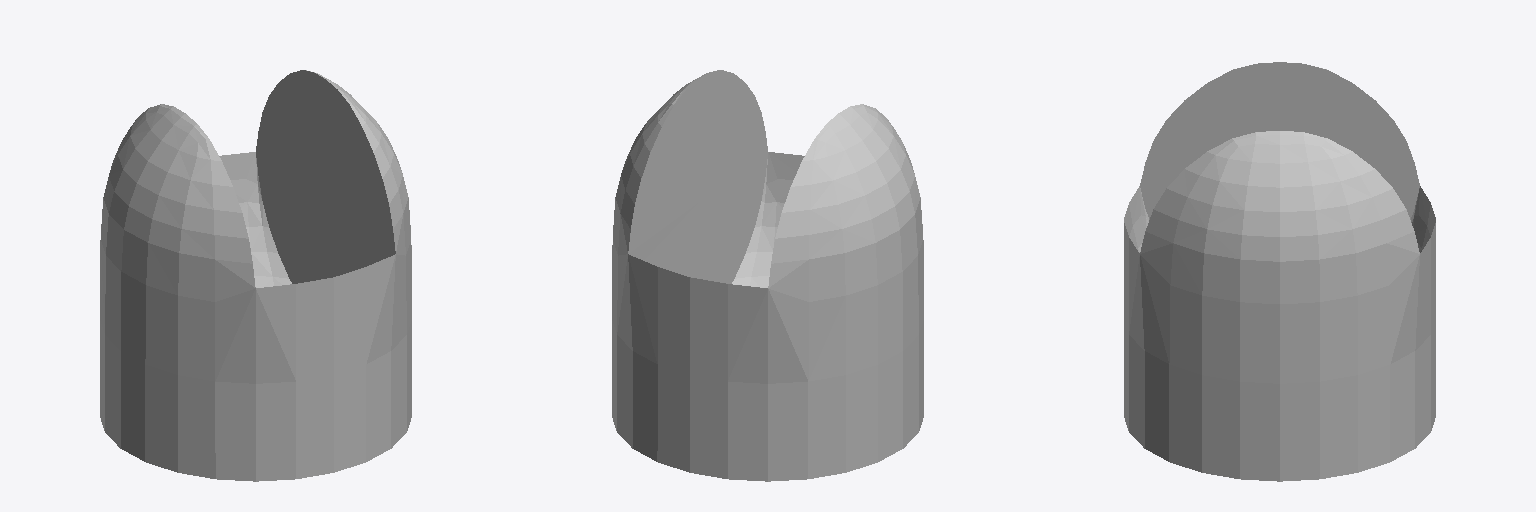
File: Tr-Grue-LeverBase-X_02.obj
The picture shows the model from 3 angles: view 1: azimuth 30°, elevation 25°; view 2: azimuth 150°, elevation 25°; view 3: azimuth 270°, elevation 25°; orthographic projection.
Visible parts, largest first — view 1: Tr-Grue-LeverBase-X_02_BaseLevier.012; view 2: Tr-Grue-LeverBase-X_02_BaseLevier.012; view 3: Tr-Grue-LeverBase-X_02_BaseLevier.012.
Part boxes in pixels (x1,y1,x2,y2): Tr-Grue-LeverBase-X_02_BaseLevier.012: (100,70,411,481); Tr-Grue-LeverBase-X_02_BaseLevier.012: (612,70,923,481); Tr-Grue-LeverBase-X_02_BaseLevier.012: (1124,62,1435,481).
Bounding box in the file's own units: 0.0725 × 0.0816 × 0.0725.